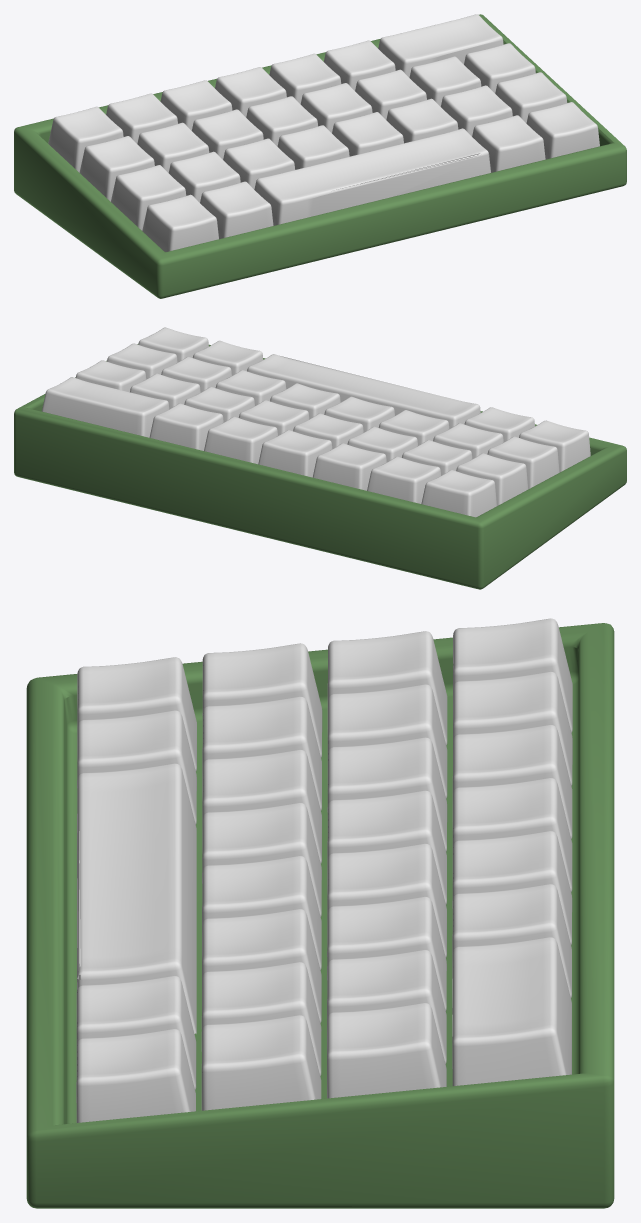
The model's file is keyboard.gltf.
The picture shows the model from 3 angles, top to bottom: view 1: azimuth 30°, elevation 25°; view 2: azimuth 150°, elevation 25°; view 3: azimuth 270°, elevation 25°; orthographic projection. The views are drawn at different scales.
Parts seen in each view (by area): view 1: base, key026, key007, key024, key025, key028, key027, key016, key001, key008, key018, key017 (+17 smaller); view 2: base, key026, key007, key001, key005, key006, key002, keyy003, key004, key016, key008, key024 (+17 smaller); view 3: base, key026, key007, key023, key015, key028, key009, key004, key027, key016, key010, key008 (+17 smaller).
Part boxes in pixels (x1,y1,x2,y2): base: (14, 14, 626, 298); key026: (254, 128, 490, 225); key007: (378, 14, 503, 77); key024: (142, 194, 218, 251); key025: (200, 181, 273, 239); key028: (526, 102, 599, 159); key027: (472, 115, 545, 172); key016: (111, 165, 186, 230); key001: (48, 106, 123, 172); key008: (79, 136, 154, 201); key018: (223, 138, 295, 189); key017: (168, 151, 240, 202); base: (14, 343, 626, 589); key026: (247, 354, 480, 428); key007: (41, 377, 169, 437); key001: (421, 470, 496, 517); key005: (204, 416, 277, 464); key006: (149, 403, 223, 450); key002: (367, 456, 440, 503); keyy003: (312, 443, 386, 490); key004: (258, 430, 332, 477); key016: (487, 436, 559, 489); key008: (456, 453, 528, 505); key024: (519, 420, 590, 472); base: (26, 623, 614, 1208); key026: (77, 763, 196, 1033); key007: (452, 937, 571, 1086); key023: (201, 1015, 321, 1110); key015: (327, 1002, 446, 1098); key028: (76, 1028, 195, 1122); key009: (327, 684, 447, 798); key004: (452, 777, 572, 892); key027: (76, 975, 196, 1089); key016: (202, 643, 322, 757); key010: (327, 737, 447, 851); key008: (327, 631, 447, 745).
Bounding box in the file's own units: 3.17 × 0.5265 × 1.72.
